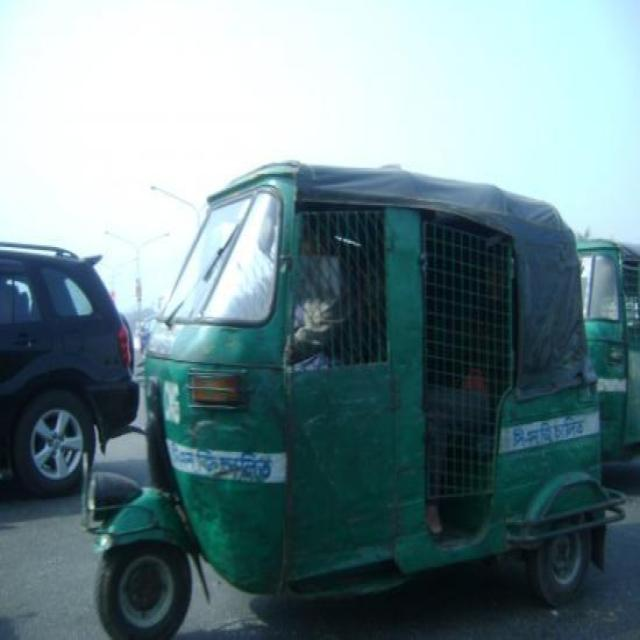CNG: (89, 156, 613, 637)
